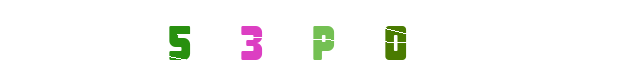0: (278, 0, 358, 80)
3: (250, 0, 330, 80)
5: (212, 0, 292, 80)
P: (270, 0, 350, 80)
